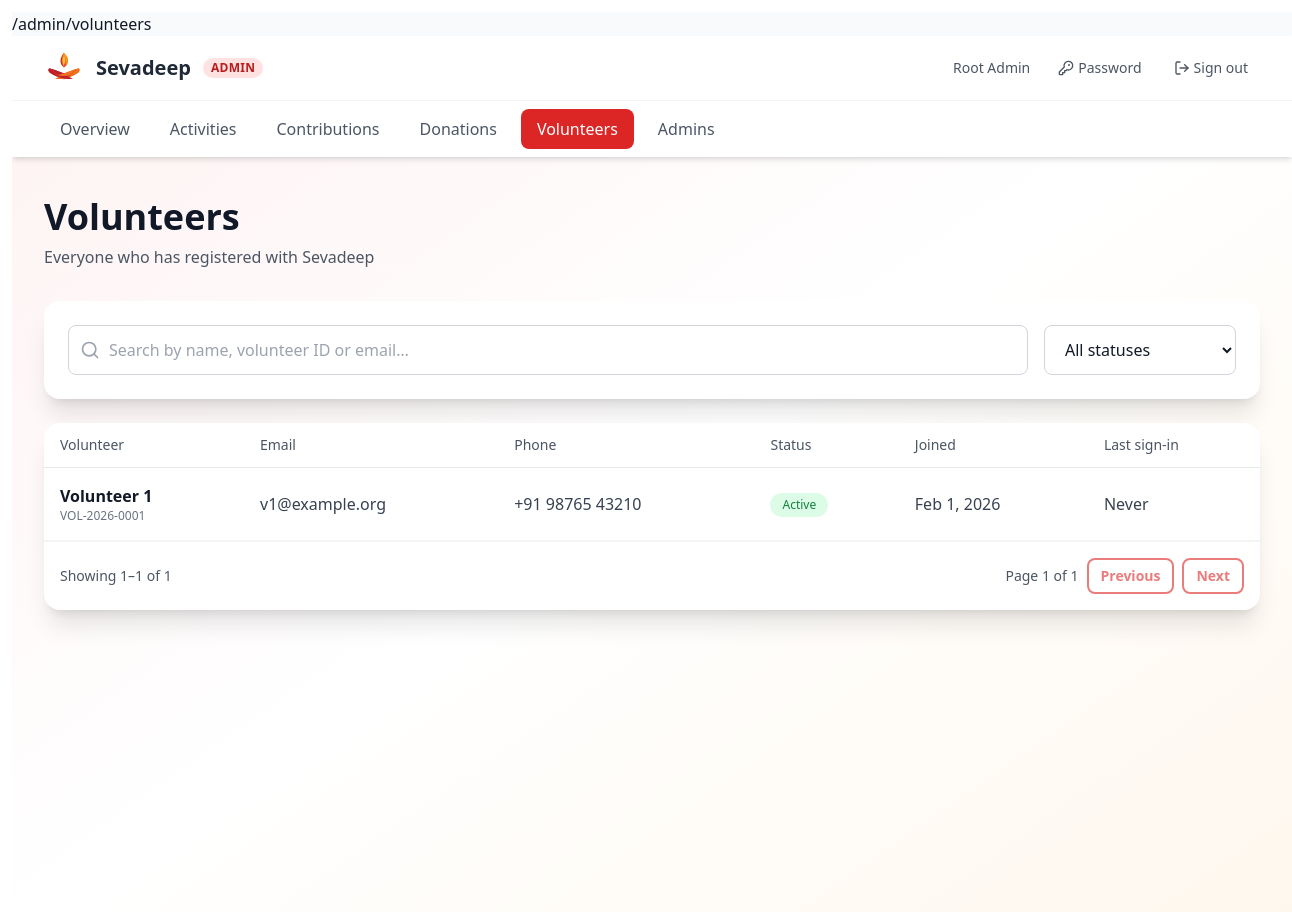
Scenario: Volunteers list › filters by status
Check: the link "Volunteer 1" is shown, box top-left (60, 485), bottom-right (152, 507)
Select "Suspended" in the dropdown named "Filter by status". click: (1140, 350)
box: top-left (1044, 325), bottom-right (1236, 375)
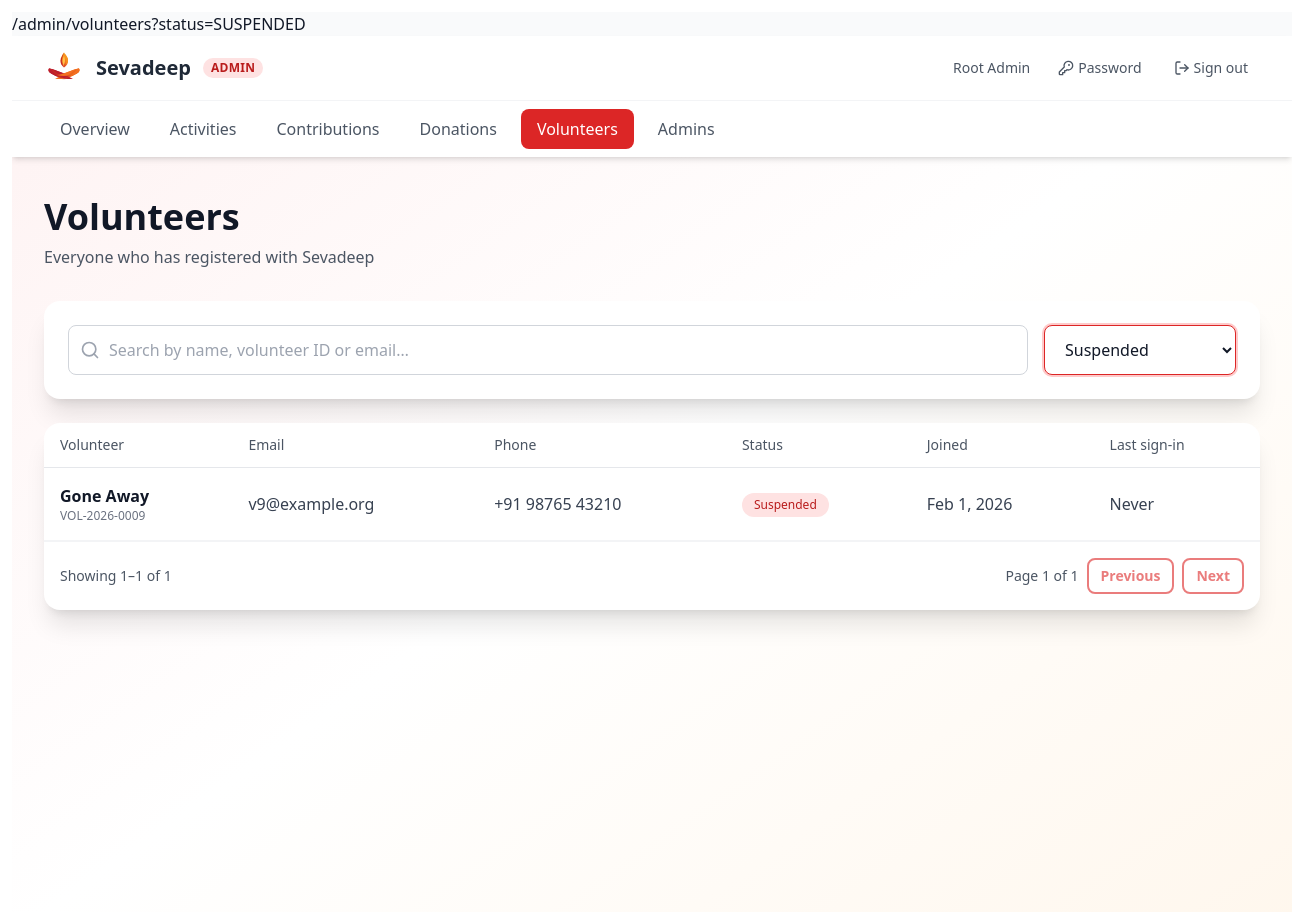
Check: the link "Gone Away" is shown, box top-left (60, 485), bottom-right (149, 507)
Check: the text with test id "location" reads "/admin/volunteers?status=SUSPENDED", box top-left (12, 13), bottom-right (306, 35)
